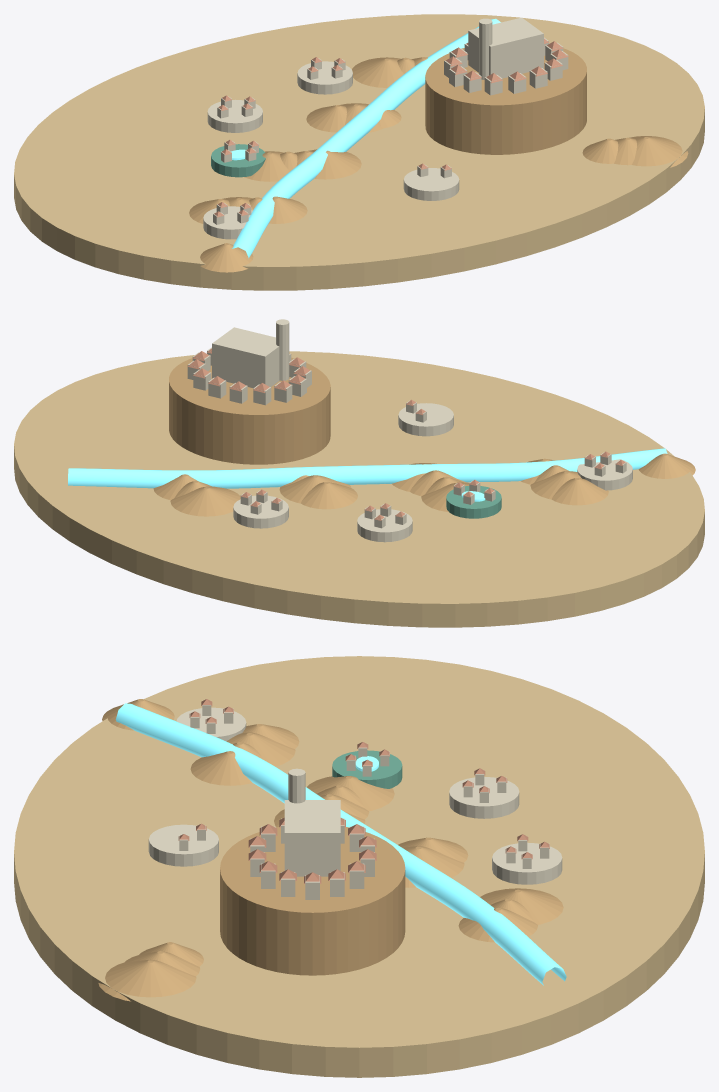
The model's file is arabasta-kingdom.glb.
3 renders of one model, top to bottom at view 1: azimuth 30°, elevation 25°; view 2: azimuth 150°, elevation 25°; view 3: azimuth 270°, elevation 25°, orthographic. The views are drawn at different scales.
Visible parts, largest first — view 1: Arabasta landmass, Alubarna rock plateau, Sandora River, Alubarna palace, erumalu district, Sandora dune 06, katorea district, rainbase district, Sandora dune 15, Sandora dune 01, yuba district, Sandora dune 03 (+8 smaller); view 2: Arabasta landmass, Alubarna rock plateau, Sandora River, Alubarna palace, Sandora dune 15, erumalu district, katorea district, rainbase district, Sandora dune 14, yuba district, Sandora dune 17, nanohana district (+7 smaller); view 3: Arabasta landmass, Alubarna rock plateau, Sandora River, Alubarna palace, Sandora dune 06, erumalu district, katorea district, rainbase district, Sandora dune 15, Sandora dune 02, yuba district, Sandora dune 18 (+8 smaller).
Part boxes in pixels (bbox=[...]): Arabasta landmass: bbox=[14, 14, 704, 290]; Alubarna rock plateau: bbox=[425, 48, 586, 154]; Sandora River: bbox=[232, 18, 500, 258]; Alubarna palace: bbox=[468, 17, 543, 78]; erumalu district: bbox=[403, 168, 459, 200]; Sandora dune 06: bbox=[629, 136, 688, 167]; katorea district: bbox=[297, 61, 352, 94]; rainbase district: bbox=[207, 99, 262, 132]; Sandora dune 15: bbox=[352, 57, 403, 87]; Sandora dune 01: bbox=[200, 243, 253, 272]; yuba district: bbox=[211, 144, 265, 177]; Sandora dune 03: bbox=[308, 149, 361, 179]; Arabasta landmass: bbox=[14, 351, 704, 627]; Alubarna rock plateau: bbox=[169, 357, 330, 464]; Sandora River: bbox=[68, 448, 667, 488]; Alubarna palace: bbox=[212, 327, 279, 388]; Sandora dune 15: bbox=[170, 486, 240, 516]; erumalu district: bbox=[398, 403, 453, 436]; katorea district: bbox=[233, 495, 288, 528]; rainbase district: bbox=[357, 509, 412, 542]; Sandora dune 14: bbox=[300, 482, 357, 509]; yuba district: bbox=[446, 486, 501, 518]; Sandora dune 17: bbox=[551, 478, 608, 505]; nanohana district: bbox=[577, 459, 632, 490]; Arabasta landmass: bbox=[14, 656, 704, 1077]; Alubarna rock plateau: bbox=[220, 827, 405, 975]; Sandora River: bbox=[115, 703, 566, 985]; Alubarna palace: bbox=[284, 800, 340, 876]; Sandora dune 06: bbox=[98, 959, 196, 1001]; erumalu district: bbox=[148, 824, 218, 866]; katorea district: bbox=[492, 842, 562, 884]; rainbase district: bbox=[449, 777, 519, 818]; Sandora dune 15: bbox=[480, 888, 563, 924]; Sandora dune 02: bbox=[190, 751, 252, 785]; yuba district: bbox=[332, 750, 402, 788]; Sandora dune 18: bbox=[306, 776, 394, 811].
Size of the model in its own units: 23.76 by 4.88 by 17.71.
